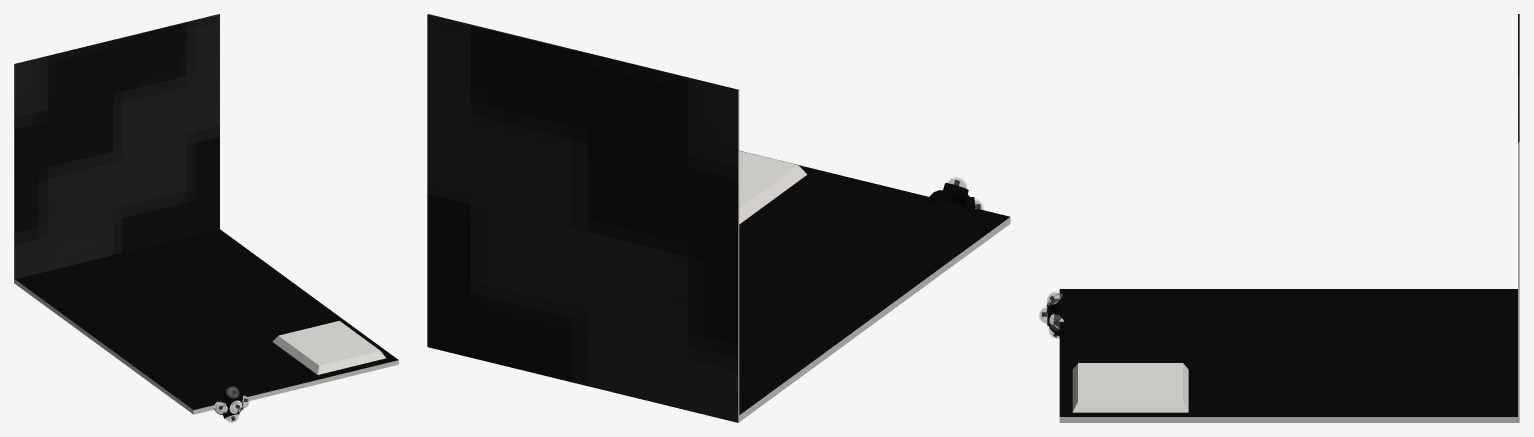
File: satelliterotate.glb
3 views of the same model, side by side, from view 1: azimuth 30°, elevation 25°; view 2: azimuth 150°, elevation 25°; view 3: azimuth 270°, elevation 25° (orthographic). The views are drawn at different scales.
Size of the model in its own units: 0.0056 by 0.00683 by 0.00886.
Materials: 5 (1 with a texture image).
